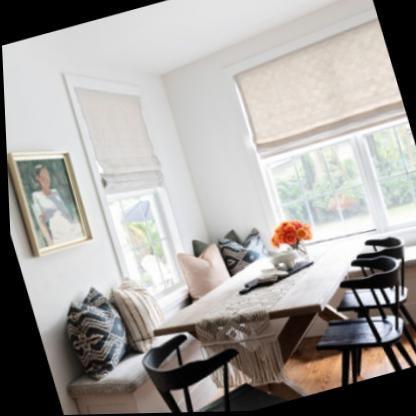Dining Table: (138, 224, 416, 414)
